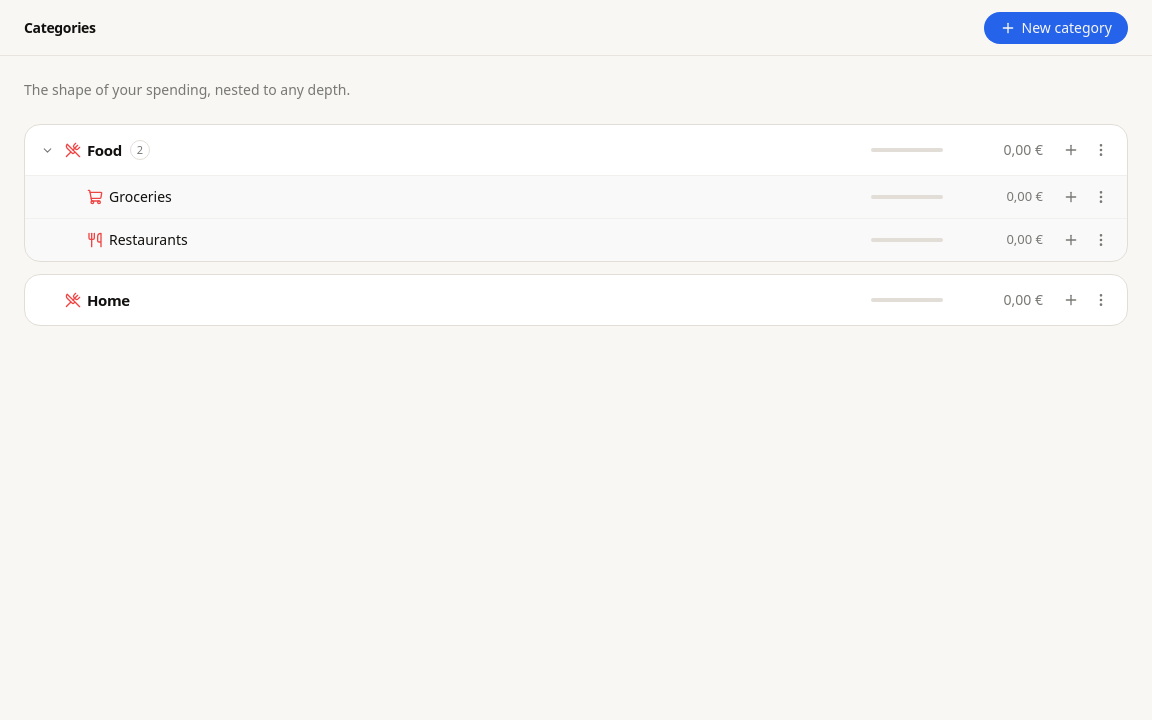
CategoriesView › leaves this page's create dialog a single field
Click the button "New category".
click(1056, 28)  # box [984, 12, 1128, 44]
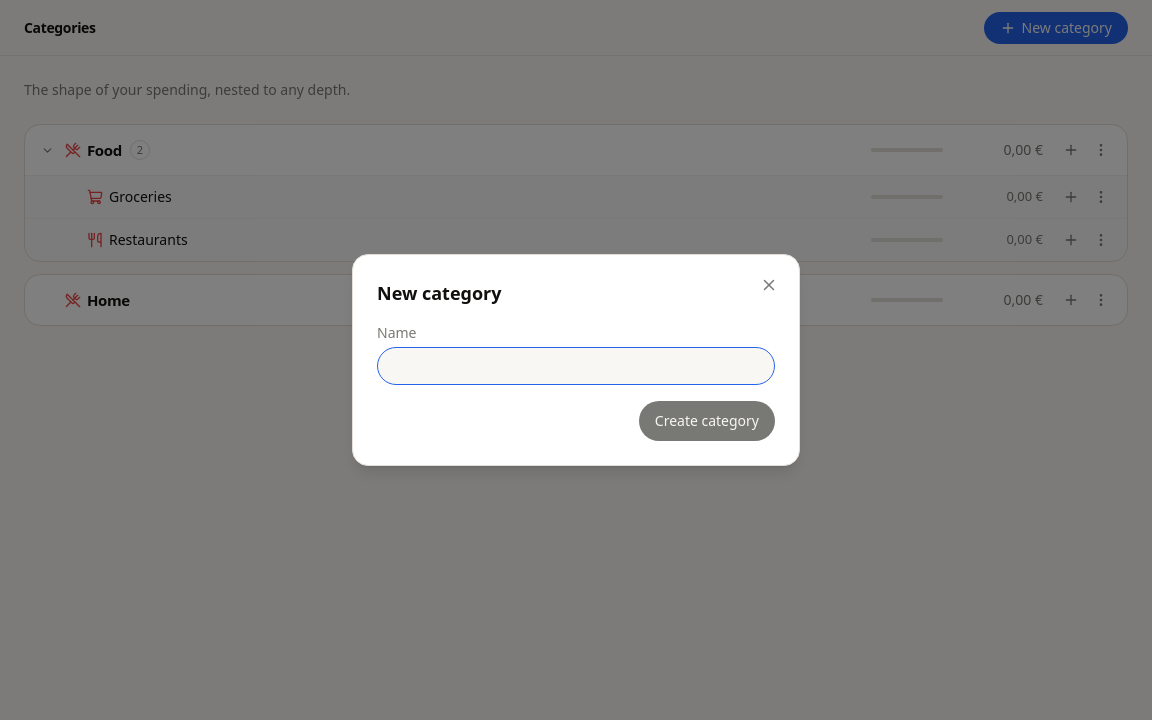
Expected: the field named "category name" is shown, [377, 347, 775, 385]
